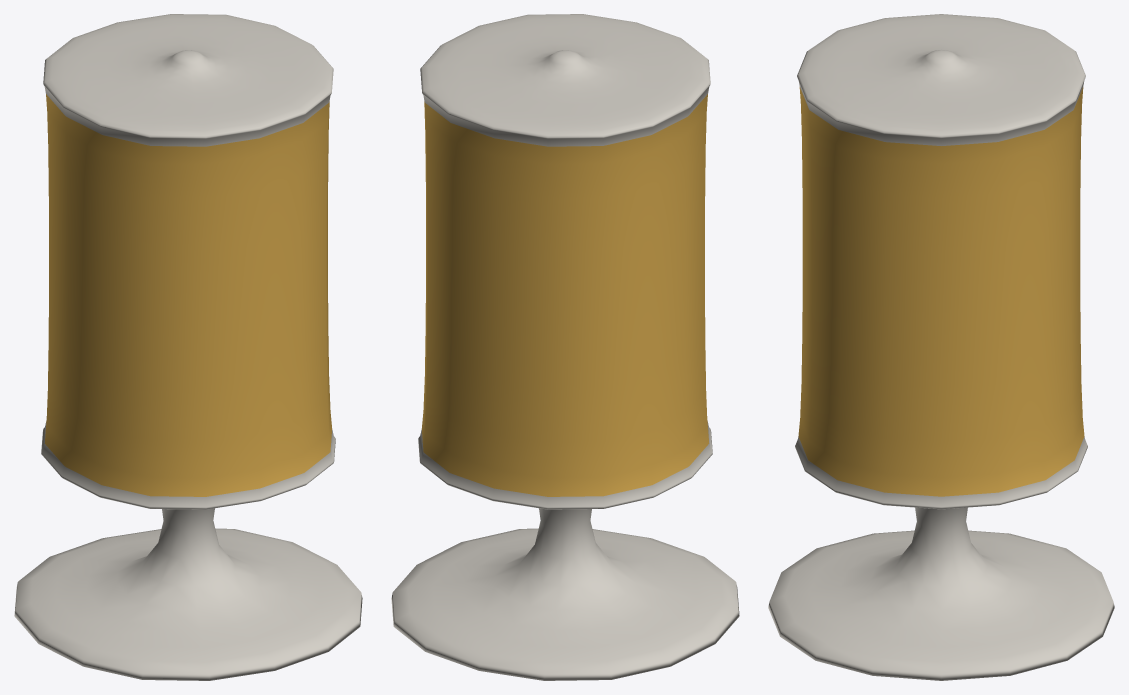
Rendered from Night Lamp 1.fbx.
The picture shows the model from 3 angles, left to right: view 1: azimuth 30°, elevation 25°; view 2: azimuth 150°, elevation 25°; view 3: azimuth 270°, elevation 25°; orthographic projection.
Parts seen in each view (by area): view 1: Lamp; view 2: Lamp; view 3: Lamp.
Part boxes in pixels (x1,y1,x2,y2): Lamp: (14,14,362,680); Lamp: (391,14,739,680); Lamp: (768,14,1114,680).
Size of the model in its own units: 172 by 313 by 172.
Materials: 2 (2 with a texture image).
